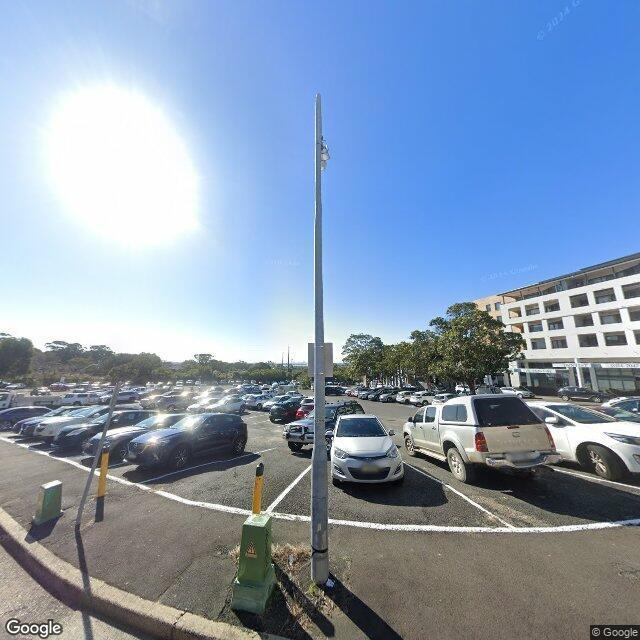steel-pole: (311, 93, 328, 583)
streetlight: (314, 93, 331, 170)
